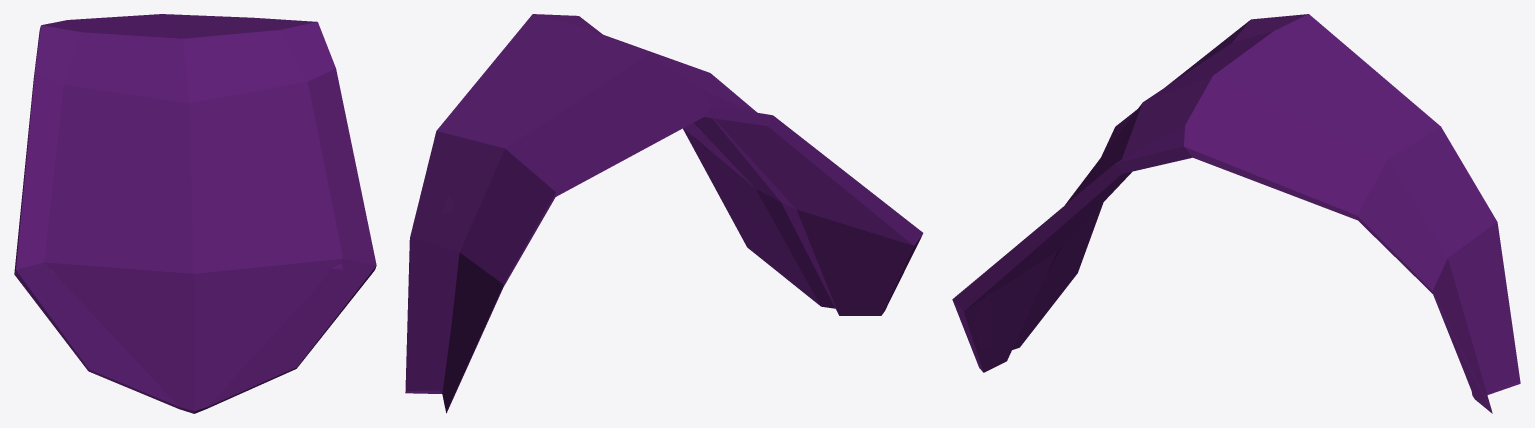
Rendered from Left_Side_Fall.fbx.
The picture shows the model from 3 angles, left to right: view 1: azimuth 30°, elevation 25°; view 2: azimuth 150°, elevation 25°; view 3: azimuth 270°, elevation 25°; orthographic projection. The views are drawn at different scales.
Parts seen in each view (by area): view 1: Side Fall; view 2: Side Fall; view 3: Side Fall.
Boxes of the visible parts, <box> form: Side Fall: <box>14,14,376,413</box>; Side Fall: <box>405,14,923,413</box>; Side Fall: <box>952,14,1520,413</box>.
Bounding box in the file's own units: 381 × 310 × 484.
